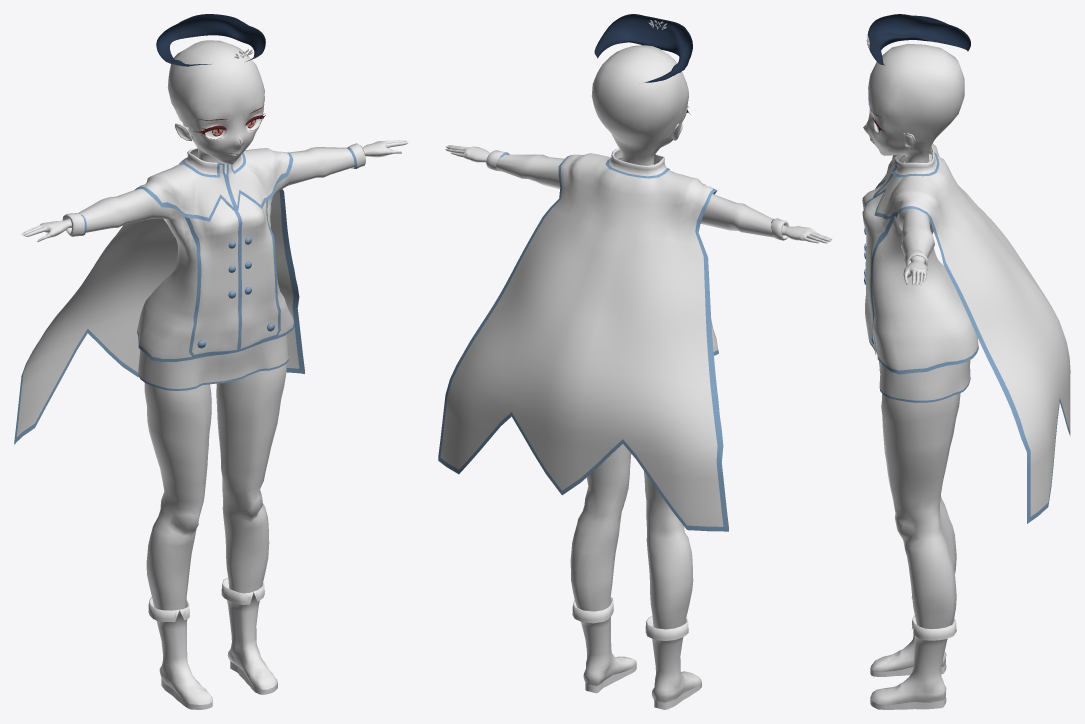
File: Kuro Figure Mixamo try6.fbx
3 views of the same model, side by side, from view 1: azimuth 30°, elevation 25°; view 2: azimuth 150°, elevation 25°; view 3: azimuth 270°, elevation 25° (orthographic).
Visible parts, largest first — view 1: Body; view 2: Body; view 3: Body.
Part boxes in pixels (bbox=[...]): Body: bbox=[14, 14, 409, 709]; Body: bbox=[438, 14, 832, 709]; Body: bbox=[862, 14, 1070, 709].
Bounding box in the file's own units: 77.46 × 127 × 36.
